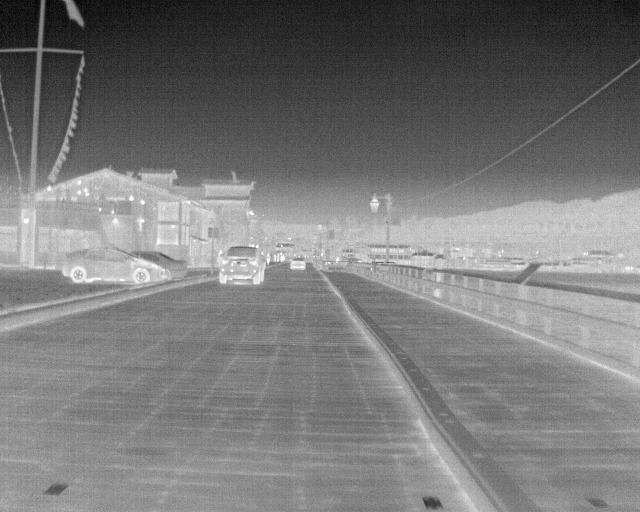car: (54, 246, 168, 286), (217, 243, 269, 287), (127, 252, 187, 282), (289, 256, 307, 272)
